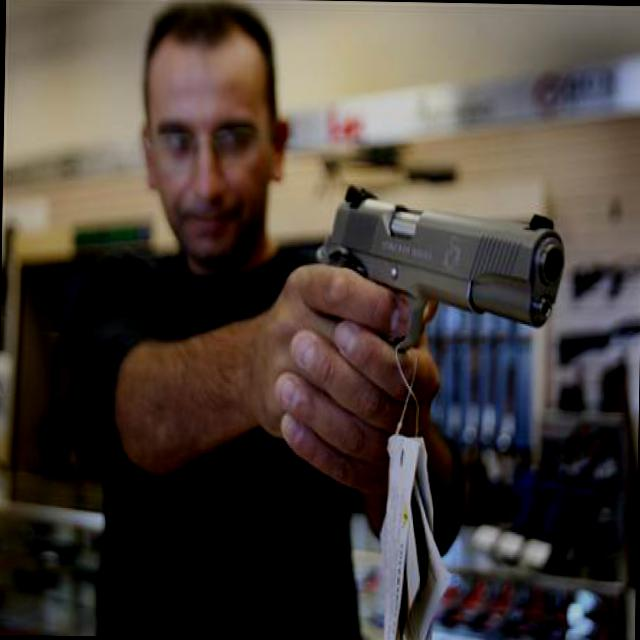handgun: (305, 180, 564, 356)
